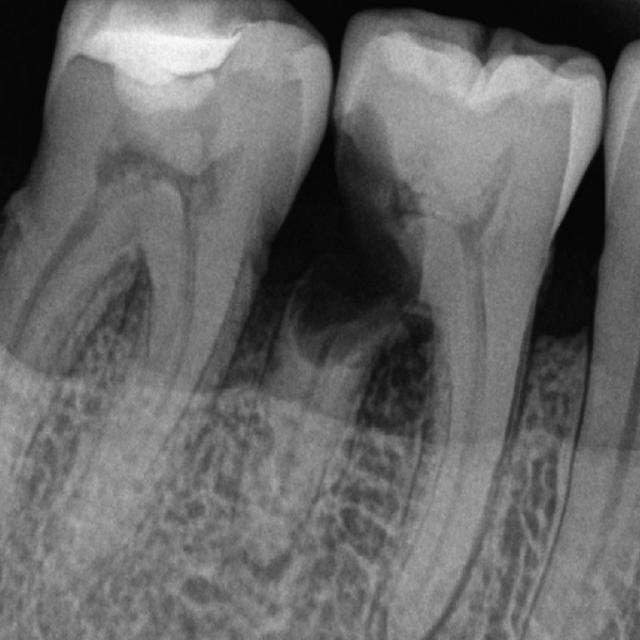Caries: (226, 9, 610, 616)
